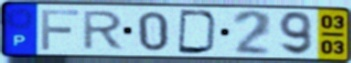0: (135, 10, 172, 53)
2: (231, 9, 275, 57)
9: (276, 10, 315, 57)
D: (176, 8, 220, 56)
F: (39, 8, 82, 52)
R: (80, 10, 126, 52)
